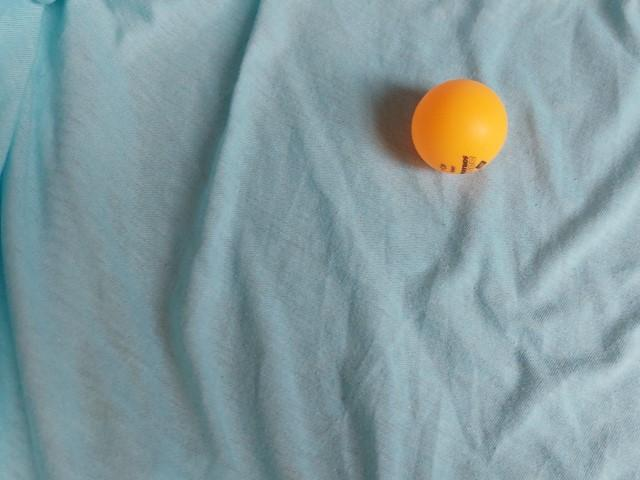oball: (404, 73, 518, 182)
